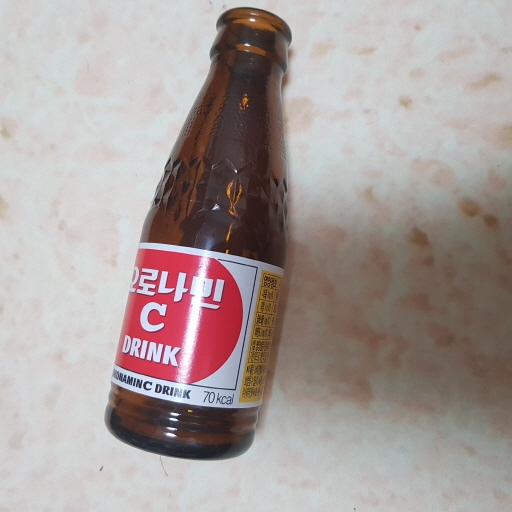Glass_3: (100, 7, 298, 466)
